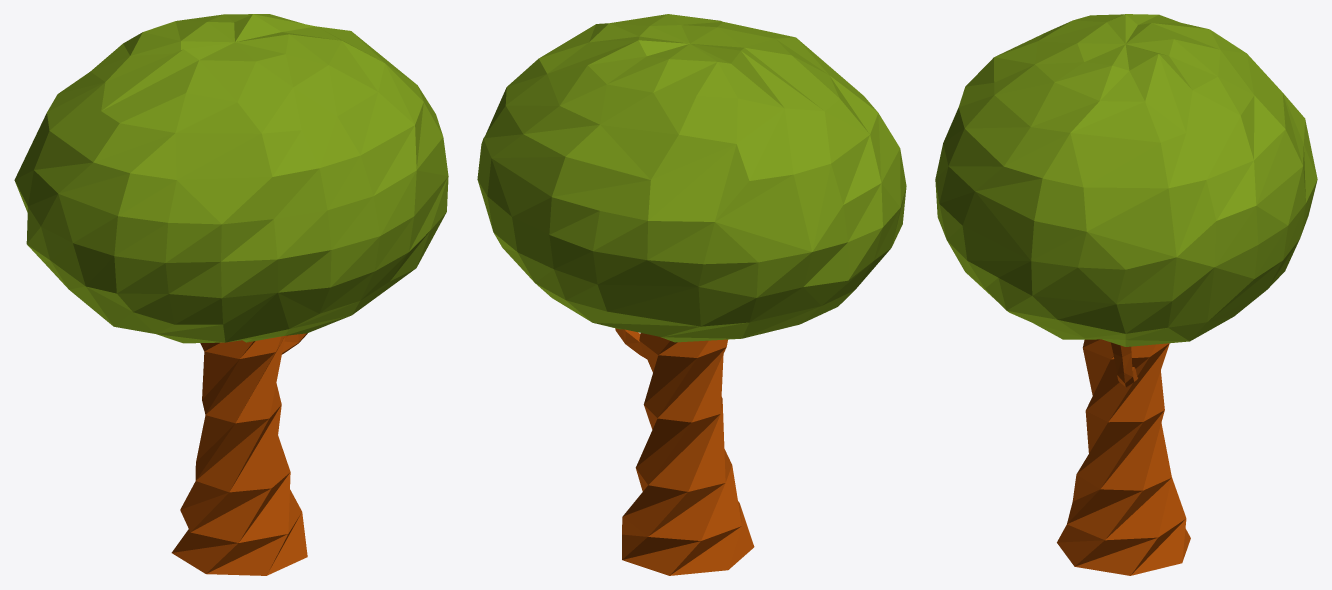
File: twistingTree.fbx
3 views of the same model, side by side, from view 1: azimuth 30°, elevation 25°; view 2: azimuth 150°, elevation 25°; view 3: azimuth 270°, elevation 25° (orthographic).
Parts seen in each view (by area): view 1: Sphere, Cylinder; view 2: Sphere, Cylinder; view 3: Sphere, Cylinder, Cylinder_1.
Part boxes in pixels (left/top/right/bottom): Sphere: left=14, top=14, right=448, bottom=343; Cylinder: left=171, top=336, right=307, bottom=575; Sphere: left=477, top=14, right=906, bottom=342; Cylinder: left=622, top=333, right=754, bottom=575; Sphere: left=935, top=14, right=1317, bottom=346; Cylinder: left=1057, top=339, right=1190, bottom=575; Cylinder_1: left=1110, top=342, right=1137, bottom=387.
Size of the model in its own units: 1888 by 2431 by 1661.
